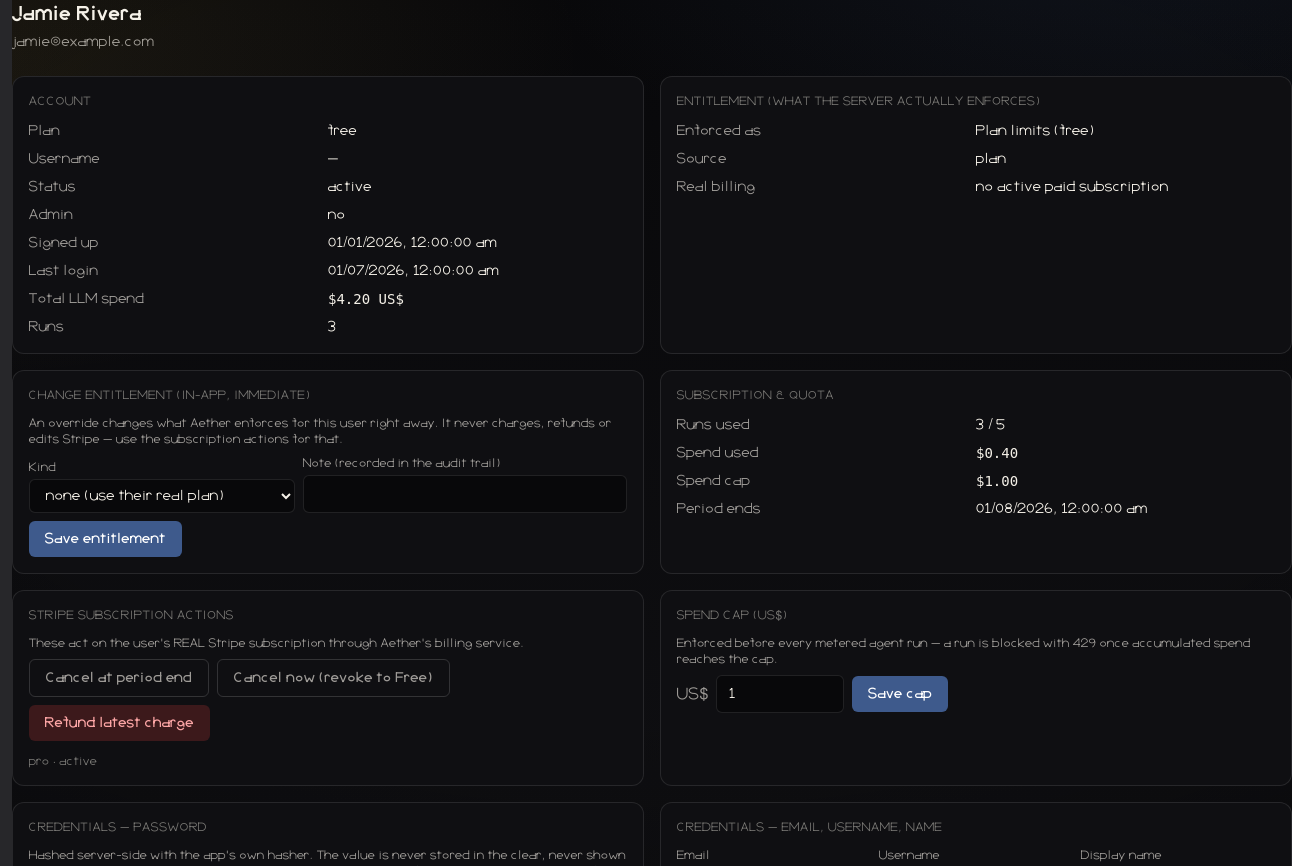
it: Stripe-linked actions route through the billing service › surfaces a 409 as the backend's honest refusal, not a generic failure
Check: the element with test id "admin-entitlement" is shown, box [660,76,1291,354]
Click the button with test id "admin-cancel-at-period-end". click: x=119, y=678
box: [29,659,209,697]
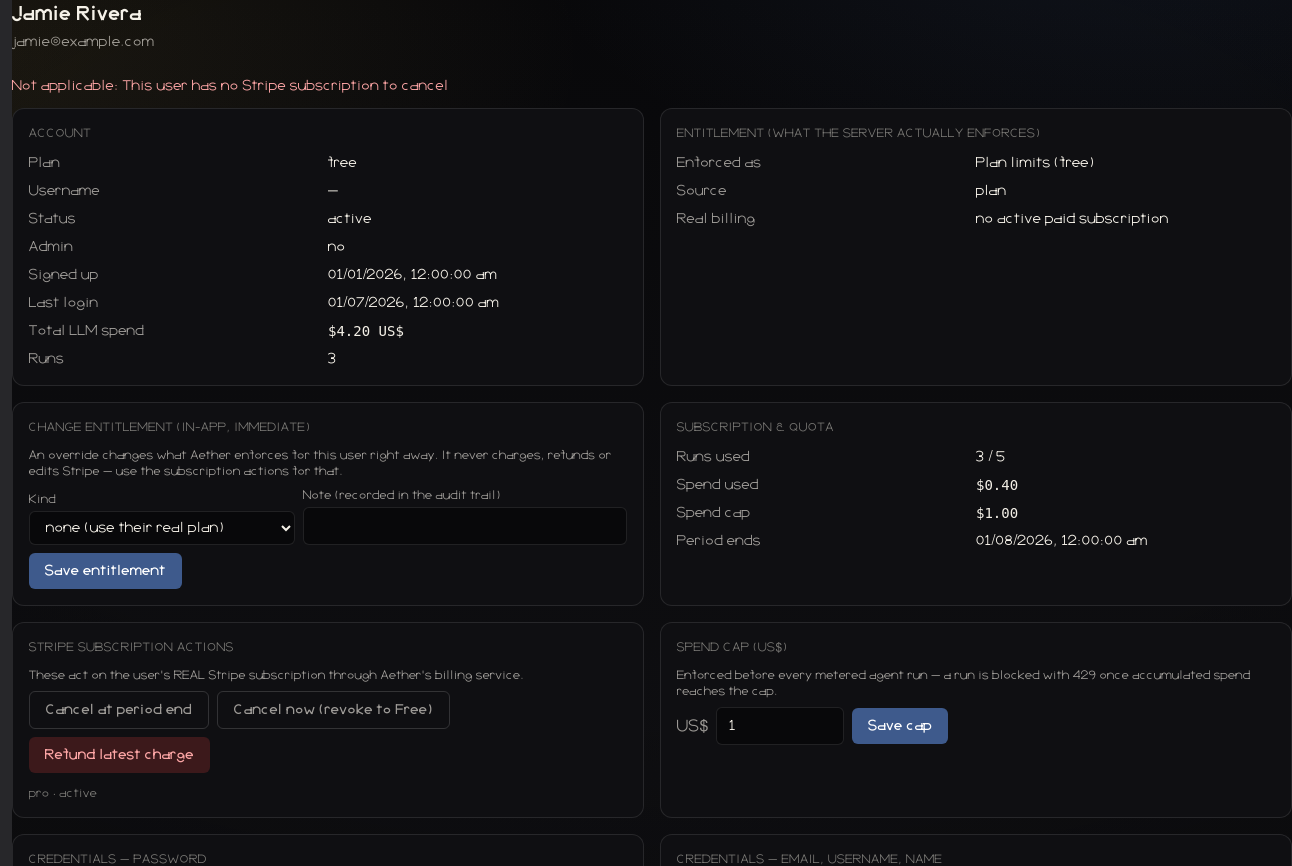
Check: the message with test id "admin-user-error" shows "Not applicable", box [12,79,448,93]
Check: the message with test id "admin-user-error" shows "no Stripe subscription", box [12,79,448,93]
